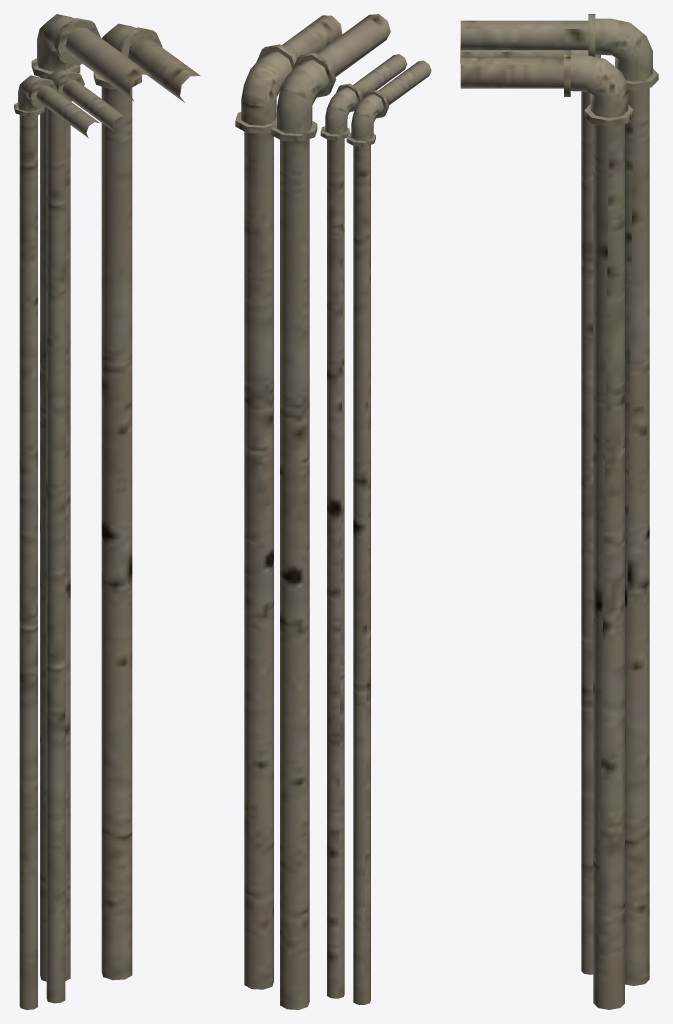
The model's file is pipecluster001c.glb.
3 views of the same model, side by side, from view 1: azimuth 30°, elevation 25°; view 2: azimuth 150°, elevation 25°; view 3: azimuth 270°, elevation 25° (orthographic). The views are drawn at different scales.
Parts seen in each view (by area): view 1: 0_prison_yard001; view 2: 0_prison_yard001; view 3: 0_prison_yard001.
Part boxes in pixels (box(x1,y1,x2,y2)): 0_prison_yard001: box(14, 14, 200, 1009); 0_prison_yard001: box(235, 14, 431, 1009); 0_prison_yard001: box(460, 14, 658, 1009).
Bounding box in the file's own units: 0.4919 × 3.42 × 0.635.
Materials: 1 (1 with a texture image).
